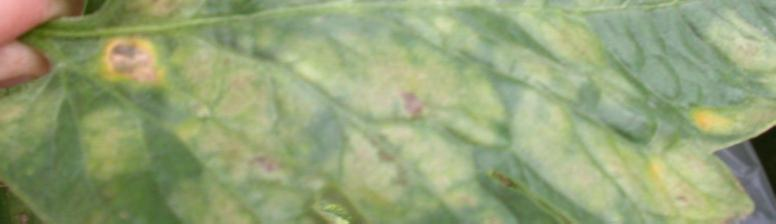Tomato mold leaf: (54, 0, 776, 224)
